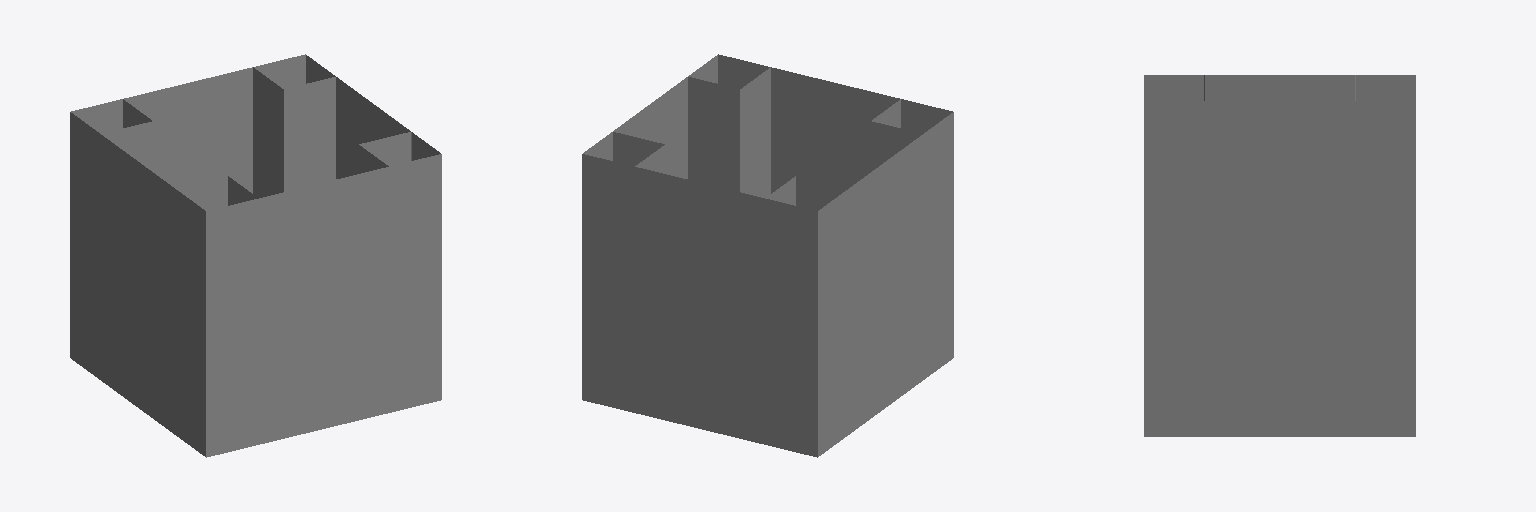
Rendered from lwjglfloor.obj.
3 views of the same model, side by side, from view 1: azimuth 30°, elevation 25°; view 2: azimuth 150°, elevation 25°; view 3: azimuth 270°, elevation 25° (orthographic).
Parts seen in each view (by area): view 1: Grid_Grid.001; view 2: Grid_Grid.001; view 3: Grid_Grid.001.
Boxes of the visible parts, box(x1,y1,x2,y2) form: Grid_Grid.001: box(70, 54, 441, 457); Grid_Grid.001: box(582, 54, 953, 457); Grid_Grid.001: box(1144, 75, 1415, 436).
Bounding box in the file's own units: 40 × 40 × 40.